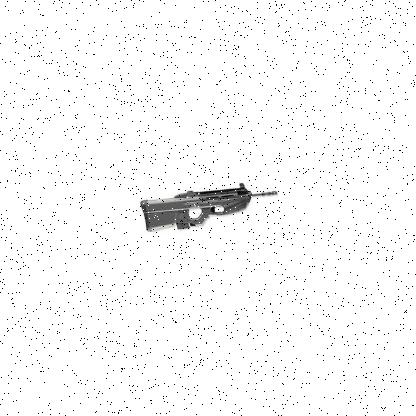gun: (138, 182, 278, 232)
